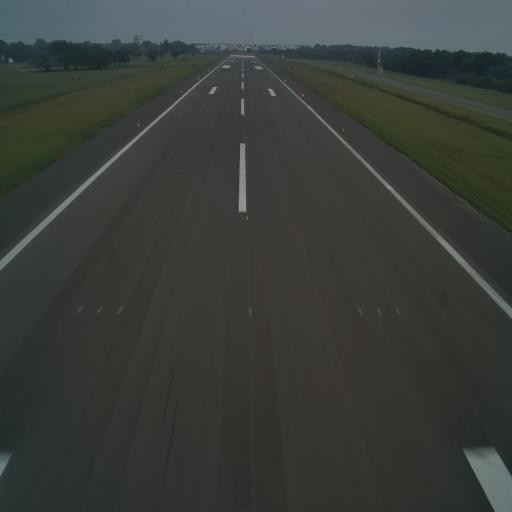off: (116, 302, 126, 318), (74, 302, 86, 315), (394, 302, 403, 318), (96, 301, 104, 317), (375, 302, 383, 317), (356, 304, 364, 318), (316, 170, 322, 180), (171, 166, 178, 174), (160, 166, 165, 176), (181, 166, 186, 176), (298, 171, 304, 179), (245, 168, 249, 178), (308, 170, 312, 179)
on: (244, 211, 251, 224), (247, 306, 253, 321), (340, 124, 345, 134), (136, 122, 142, 129), (244, 140, 248, 148)
